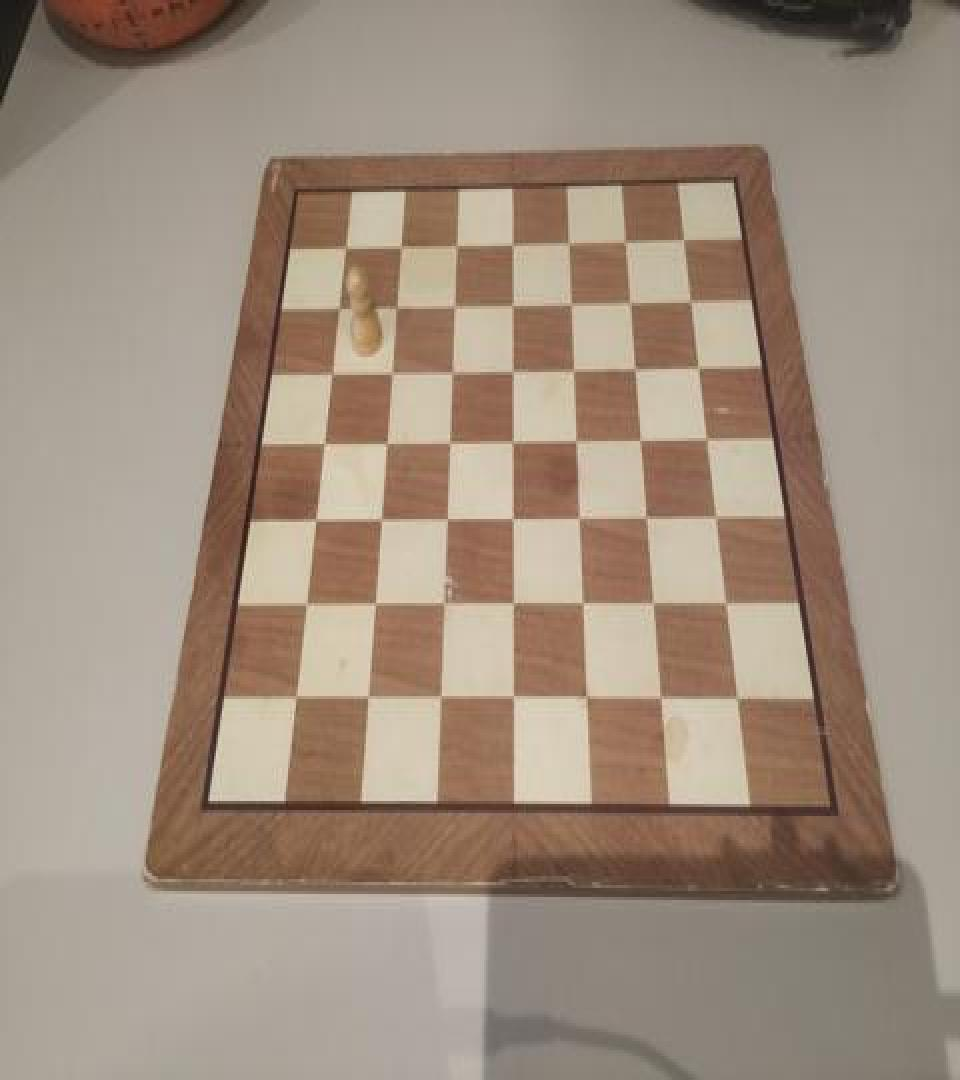xcorner: (618, 223, 638, 254), (285, 684, 305, 714), (358, 684, 378, 714), (431, 684, 451, 714), (504, 684, 524, 714), (578, 684, 598, 714), (653, 684, 673, 714), (295, 591, 315, 621), (364, 590, 384, 620), (434, 590, 454, 620), (504, 590, 524, 620), (575, 588, 595, 618), (646, 588, 666, 618), (717, 588, 737, 618), (305, 506, 325, 536), (371, 506, 391, 536), (437, 504, 457, 534), (504, 504, 524, 534), (571, 502, 591, 532), (639, 502, 659, 532), (707, 501, 727, 531), (313, 428, 333, 458), (376, 428, 396, 458), (440, 426, 460, 456), (504, 424, 524, 454), (568, 424, 588, 454), (633, 423, 653, 453), (698, 422, 718, 452), (321, 357, 341, 387), (382, 356, 402, 386), (442, 354, 462, 384), (504, 354, 524, 384), (565, 352, 585, 382), (627, 351, 647, 381), (690, 350, 710, 380), (328, 291, 348, 321), (386, 291, 406, 321), (445, 290, 465, 320), (504, 288, 524, 318), (563, 286, 583, 316), (622, 285, 642, 315), (682, 284, 702, 314), (335, 231, 355, 261), (391, 230, 411, 260), (447, 228, 467, 258), (503, 226, 523, 256), (560, 225, 580, 255), (675, 222, 695, 252), (728, 683, 748, 712)
